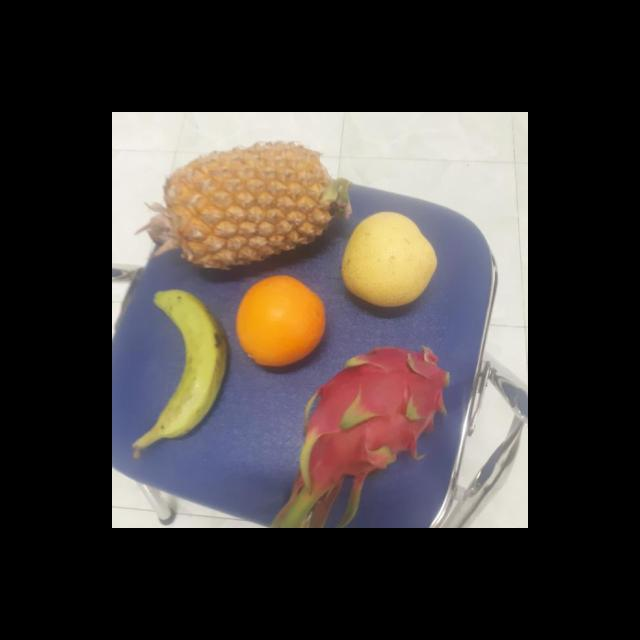banana: (145, 291, 229, 443)
guava: (340, 214, 440, 308)
pear: (340, 213, 442, 311), (232, 276, 330, 367)
pineapple: (159, 142, 345, 272)
pitaya: (294, 345, 456, 489)
